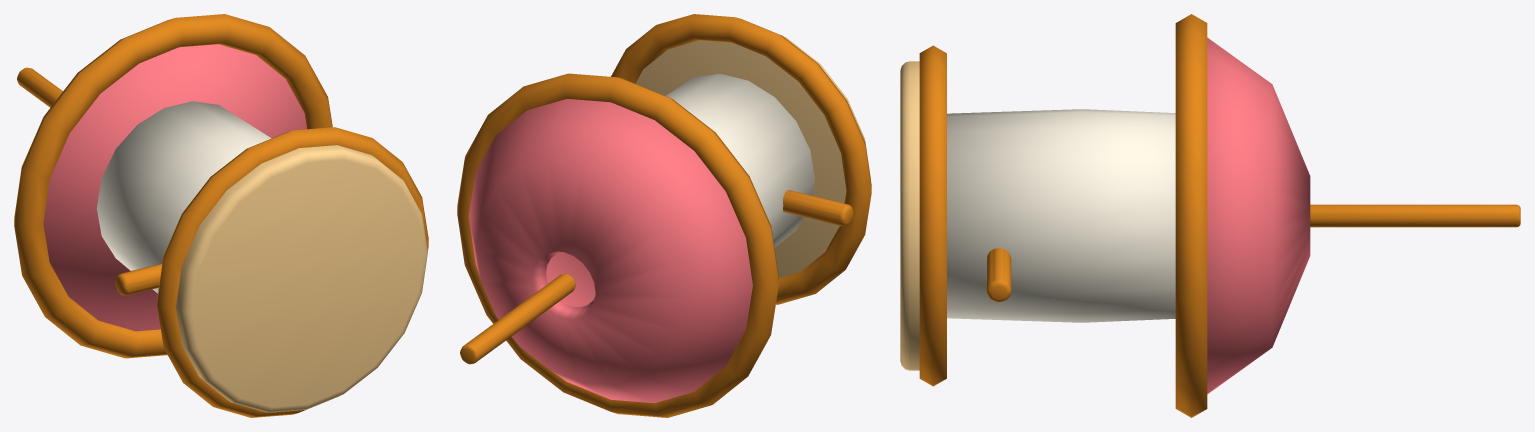
The model's file is BalconyBirdFeederFeeder_Premium.fbx.
3 renders of one model, left to right at view 1: azimuth 30°, elevation 25°; view 2: azimuth 150°, elevation 25°; view 3: azimuth 270°, elevation 25°, orthographic. The views are drawn at different scales.
Visible parts, largest first — view 1: BalconyBirdFeederFeeder; view 2: BalconyBirdFeederFeeder; view 3: BalconyBirdFeederFeeder.
Boxes of the visible parts, left/top/right/bottom form: BalconyBirdFeederFeeder: left=14, top=14, right=428, bottom=417; BalconyBirdFeederFeeder: left=457, top=14, right=871, bottom=417; BalconyBirdFeederFeeder: left=900, top=14, right=1520, bottom=417.
Bounding box in the file's own units: 0.334 × 0.334 × 0.509.
